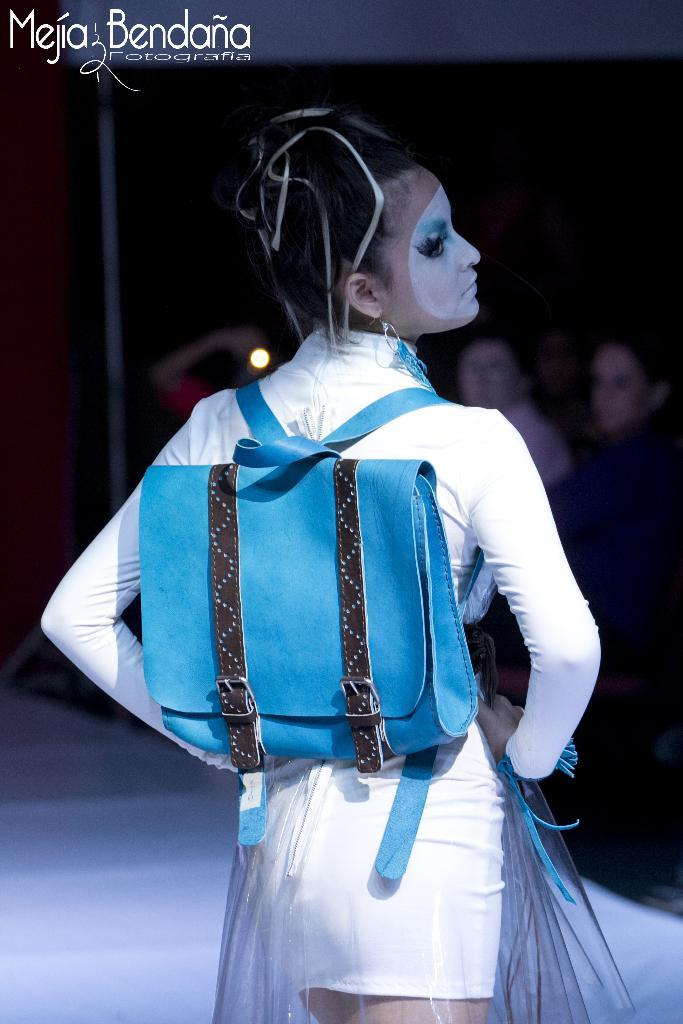Luggage-and-bags: (122, 387, 500, 807)
